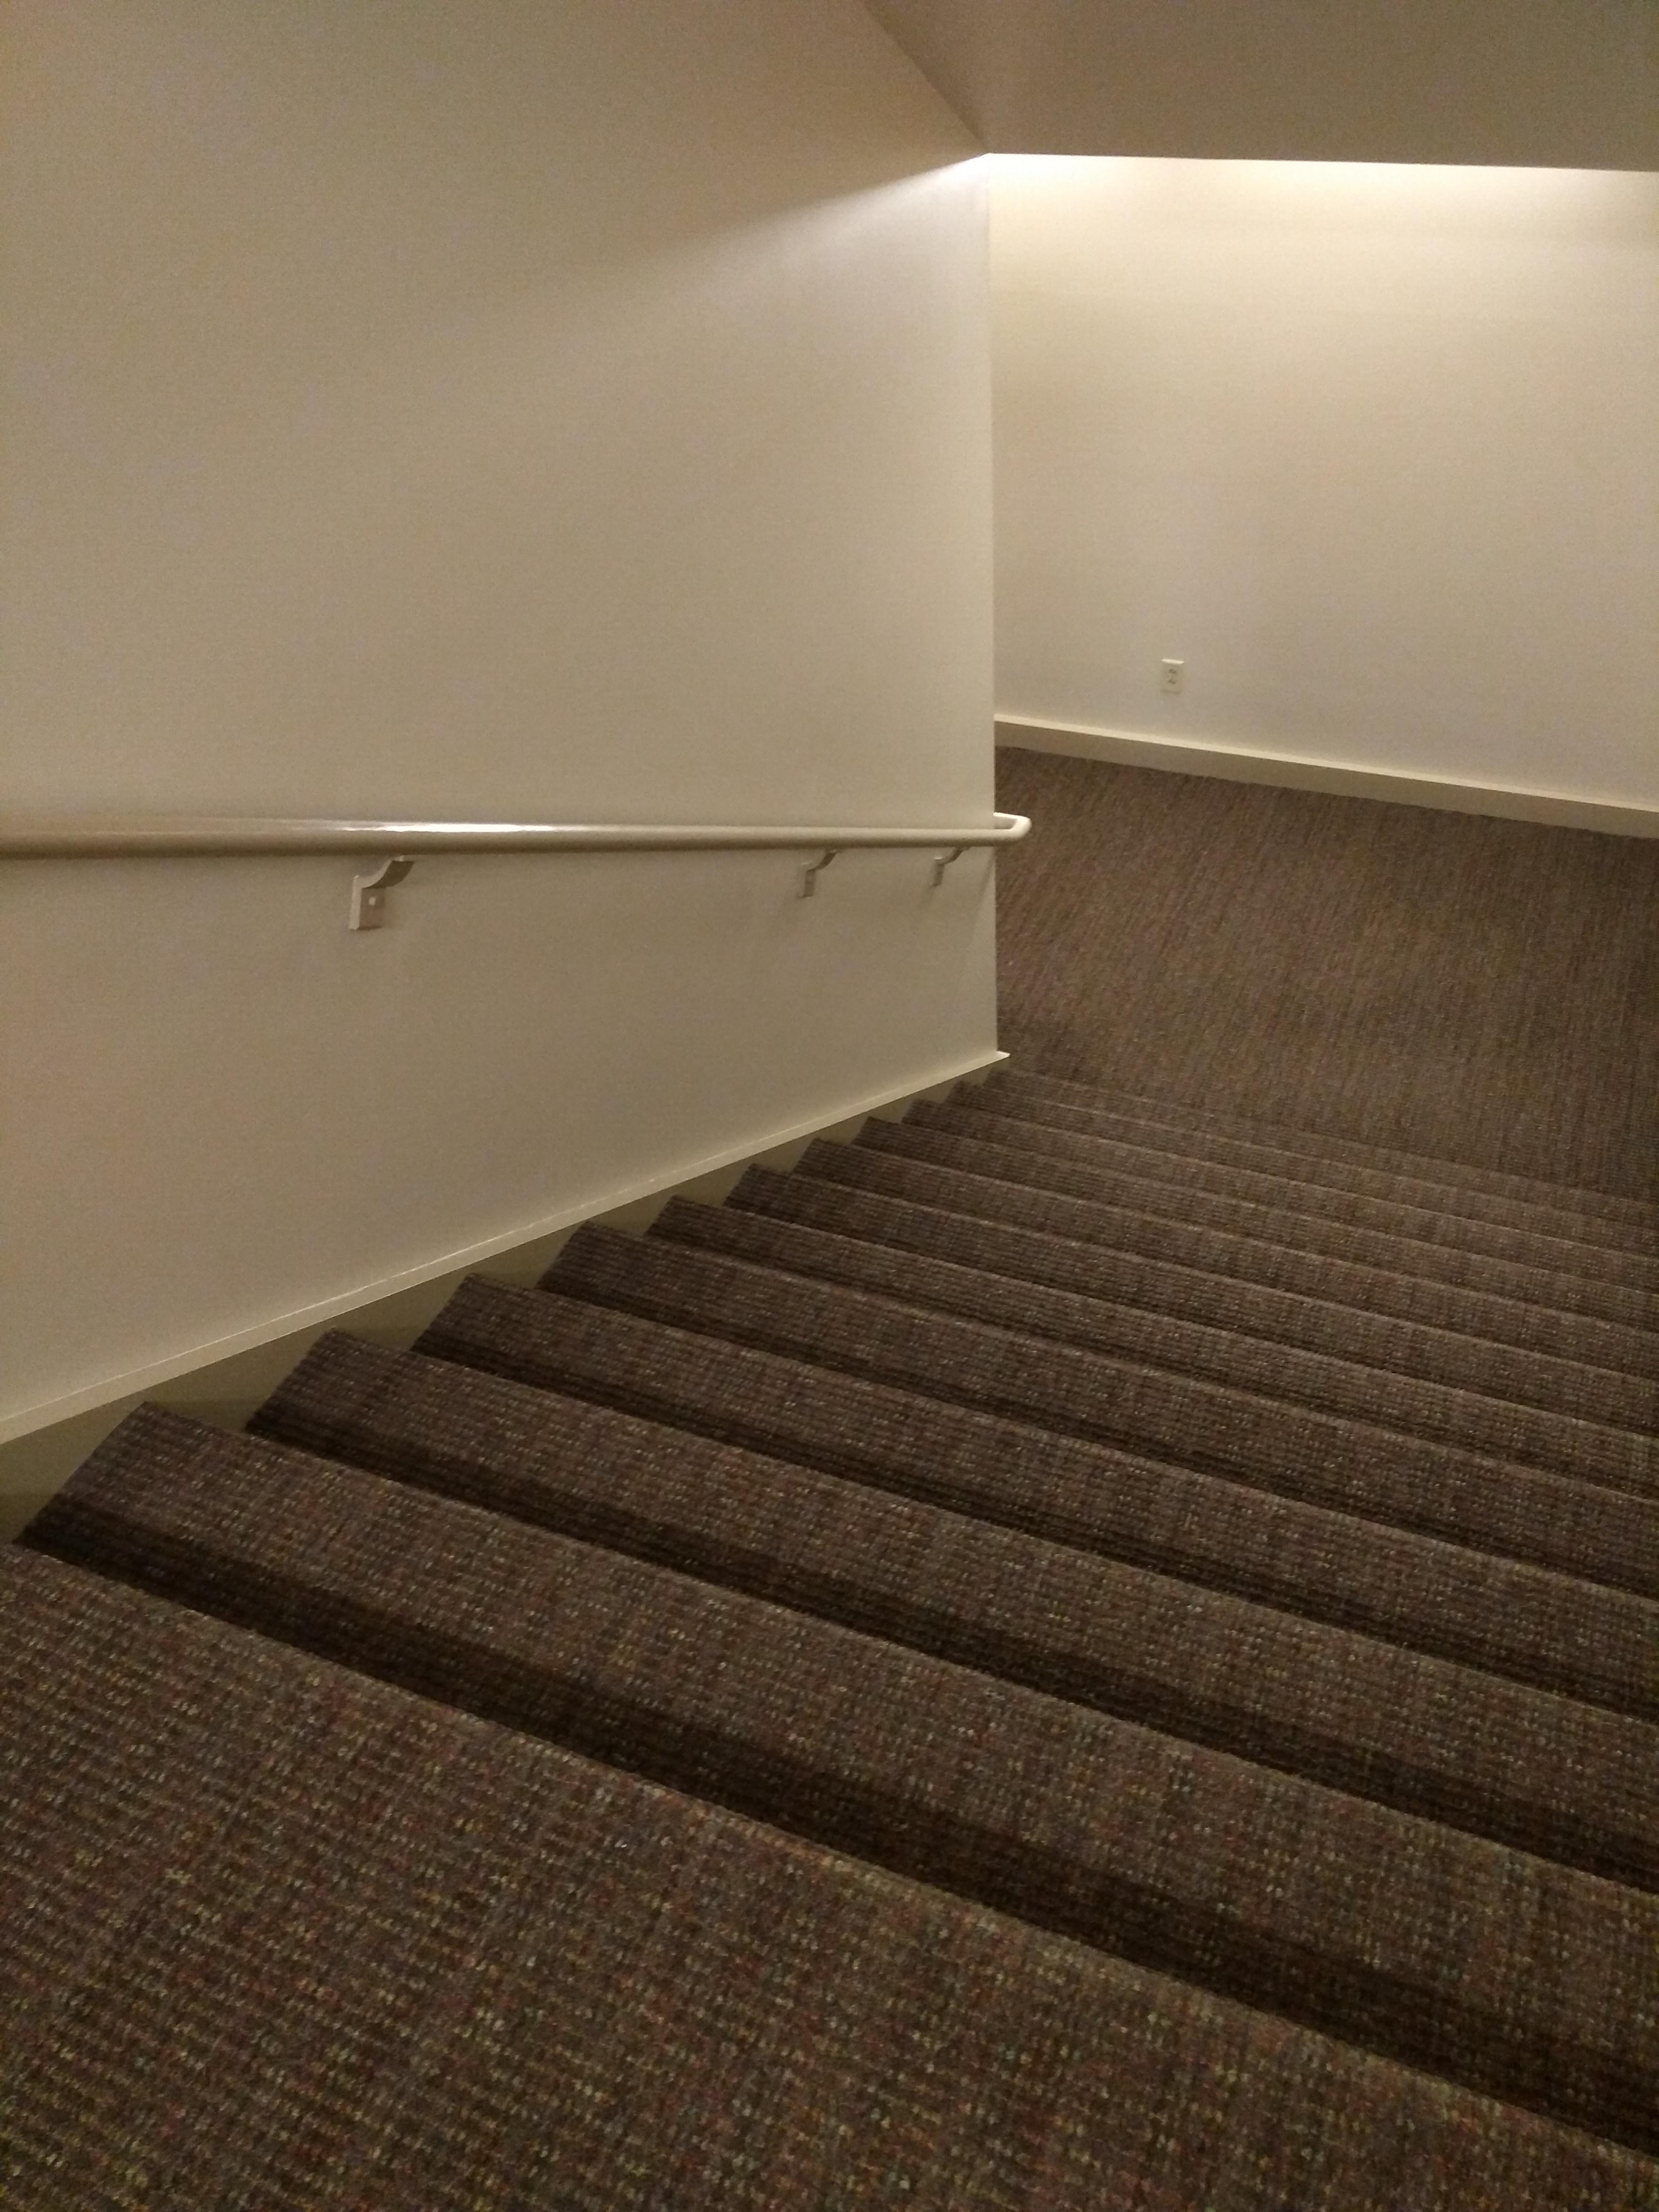stairs_down: (59, 1061, 1629, 2151)
